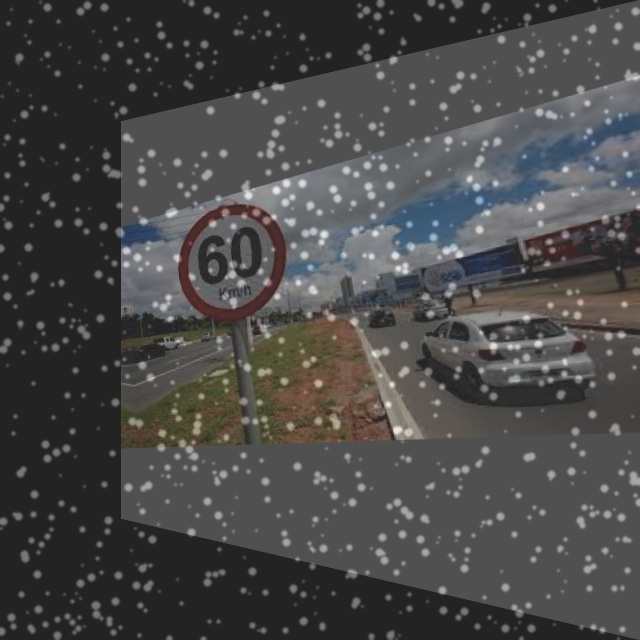Speed_Limit_60: (172, 186, 290, 328)
